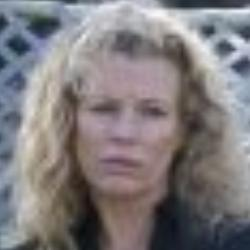face: (16, 4, 246, 230)
